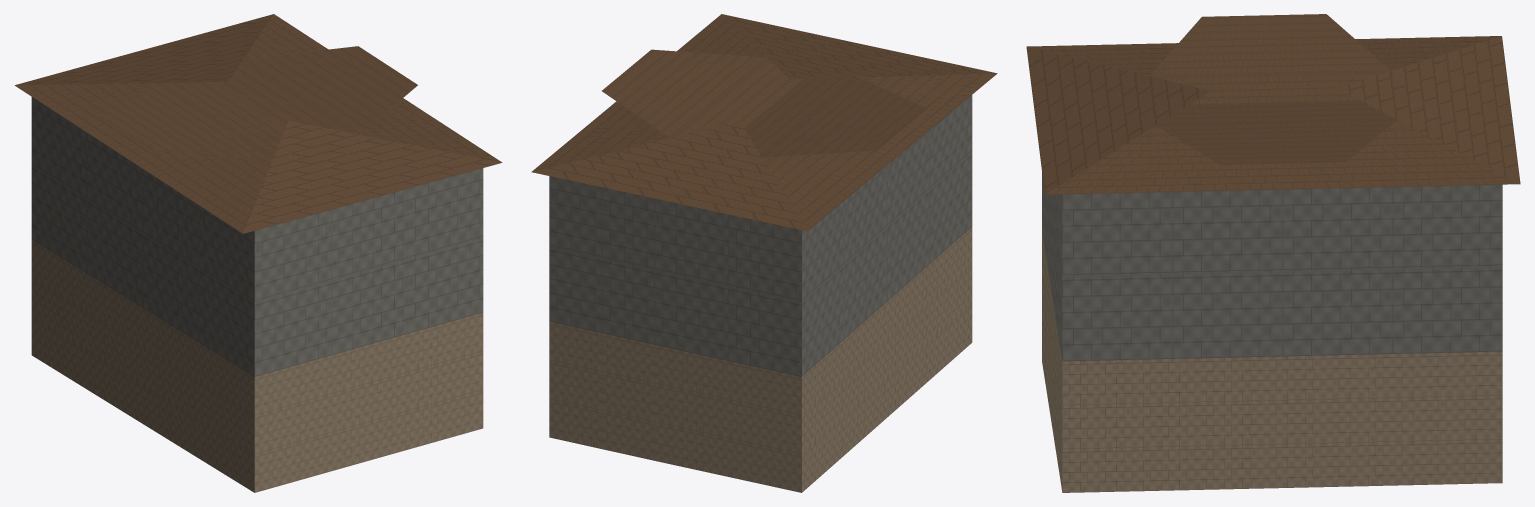
File: bld_c42_32_270.gltf
The picture shows the model from 3 angles, left to right: view 1: azimuth 30°, elevation 25°; view 2: azimuth 150°, elevation 25°; view 3: azimuth 270°, elevation 25°; orthographic projection. The views are drawn at different scales.
Parts seen in each view (by area): view 1: bld_c42_32_270; view 2: bld_c42_32_270; view 3: bld_c42_32_270.
Part boxes in pixels (bbox=[...]): bld_c42_32_270: bbox=[15, 14, 502, 492]; bld_c42_32_270: bbox=[531, 14, 997, 492]; bld_c42_32_270: bbox=[1026, 14, 1520, 492].
Bounding box in the file's own units: 13.2 × 12.8 × 17.35.
Materials: 3 (3 with a texture image).
